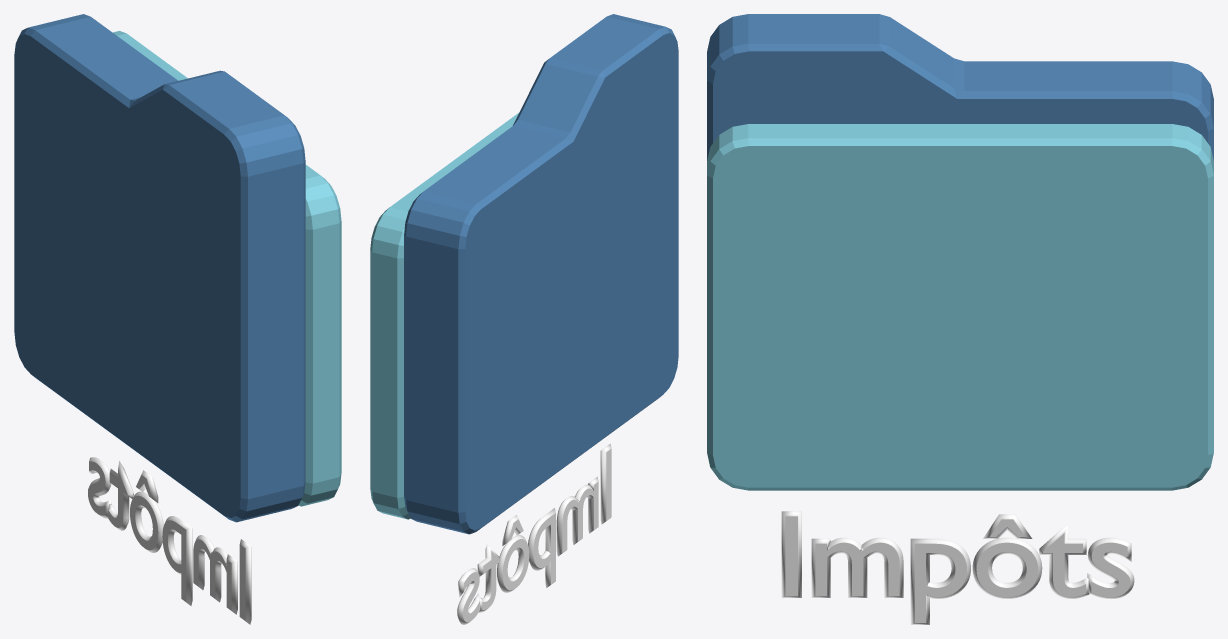
The model's file is Folder_Impots.fbx.
3 renders of one model, left to right at view 1: azimuth 30°, elevation 25°; view 2: azimuth 150°, elevation 25°; view 3: azimuth 270°, elevation 25°, orthographic. The views are drawn at different scales.
Visible parts, largest first — view 1: FolderIcon_2, Text.002; view 2: FolderIcon_2, Text.002; view 3: FolderIcon_2, Text.002.
Part boxes in pixels (x1,y1,x2,y2): FolderIcon_2: (14,14,341,522); Text.002: (88,457,251,624); FolderIcon_2: (370,14,678,534); Text.002: (457,443,611,624); FolderIcon_2: (707,14,1213,490); Text.002: (781,511,1134,624).
Bounding box in the file's own units: 65.51 × 336 × 261.
